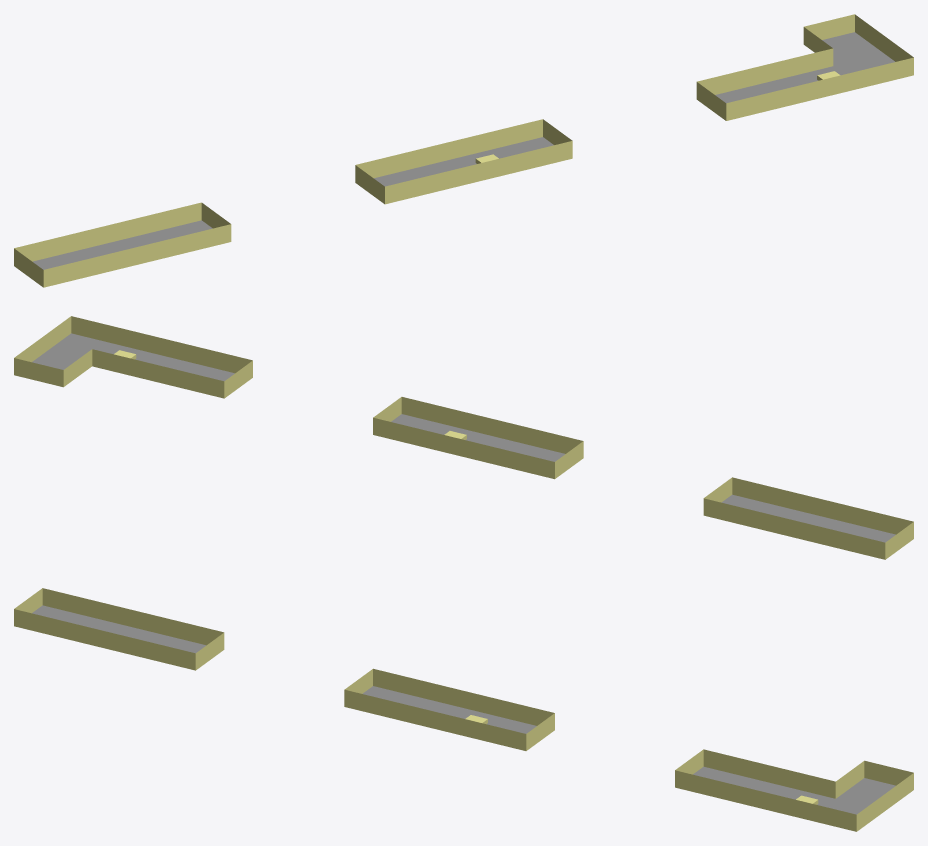
Rendered from practice-course.FBX.
3 renders of one model, top to bottom at view 1: azimuth 30°, elevation 25°; view 2: azimuth 150°, elevation 25°; view 3: azimuth 330°, elevation 25°, orthographic. The views are drawn at different scales.
Visible parts, largest first — view 1: Plane003, Plane001, Plane002, Plane006, Plane005, Plane004; view 2: Plane003, Plane002, Plane001, Plane006, Plane004, Plane005; view 3: Plane003, Plane001, Plane002, Plane006, Plane005, Plane004.
Boxes of the visible parts, bbox=[...] form: Plane003: bbox=[696, 14, 913, 120]; Plane001: bbox=[14, 202, 231, 287]; Plane002: bbox=[355, 119, 572, 204]; Plane006: bbox=[697, 14, 911, 119]; Plane005: bbox=[355, 119, 572, 203]; Plane004: bbox=[14, 204, 231, 285]; Plane003: bbox=[14, 316, 252, 398]; Plane002: bbox=[373, 397, 583, 479]; Plane001: bbox=[703, 477, 913, 559]; Plane006: bbox=[14, 317, 252, 398]; Plane004: bbox=[703, 477, 913, 557]; Plane005: bbox=[373, 399, 583, 477]; Plane003: bbox=[675, 749, 913, 831]; Plane001: bbox=[14, 588, 224, 670]; Plane002: bbox=[344, 668, 554, 750]; Plane006: bbox=[675, 750, 913, 830]; Plane005: bbox=[345, 669, 554, 749]; Plane004: bbox=[14, 589, 224, 669].
Size of the model in its own units: 25.5 by 0.5 by 3.
